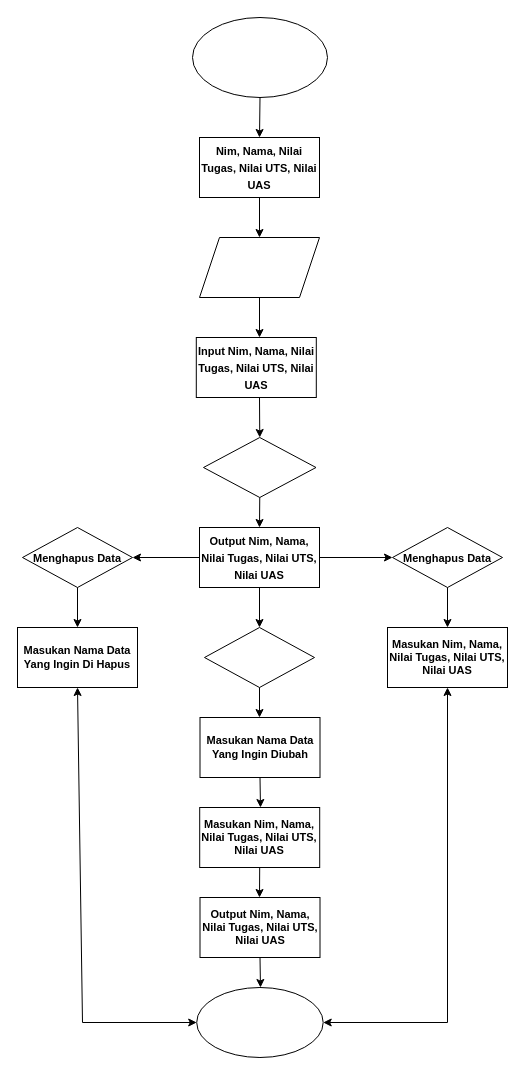
Some shapes in this 525 by 1075 pixel diagram are drawn without their labels. Each missing label, with the centre of its shape:
"END" goes at point 259,1022.
"Melihat Data" goes at point 259,467.
"Mengubah Data" goes at point 259,657.
"Start" goes at point 260,57.
"Tambah Data" goes at point 259,267.
